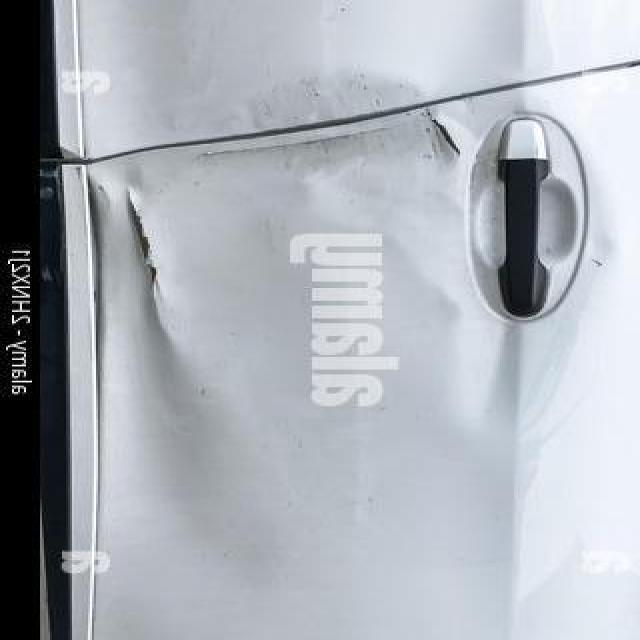dent: (62, 172, 228, 386), (390, 85, 480, 168)
